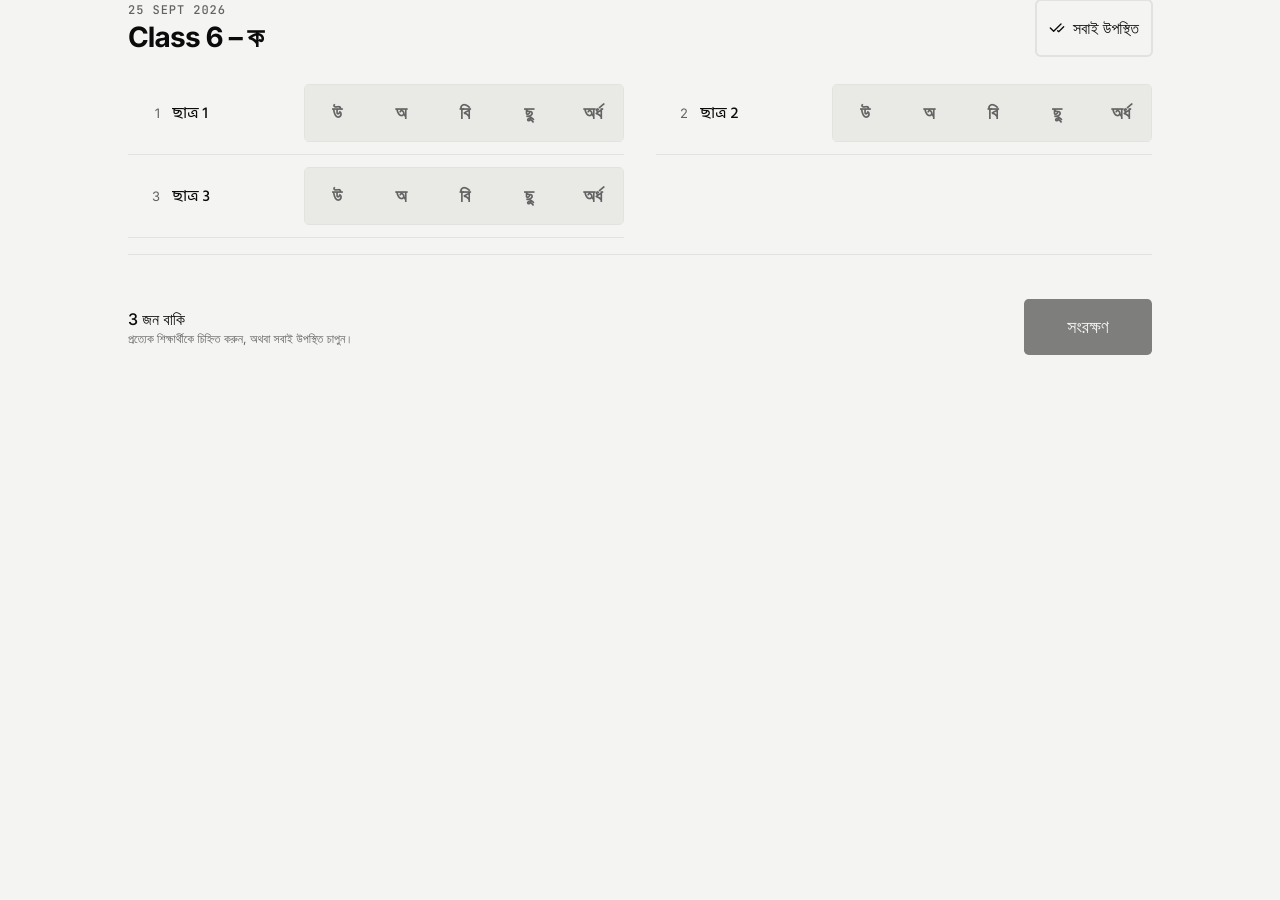
Test case: RollCall — basic mode (F-ID-10 Part 3) › confirms the plain sentence in Bangla with counts before saving
Click the button "সবাই উপস্থিত" at {"x": 1094, "y": 28}, box x1=1036 y1=0 x2=1152 y2=56
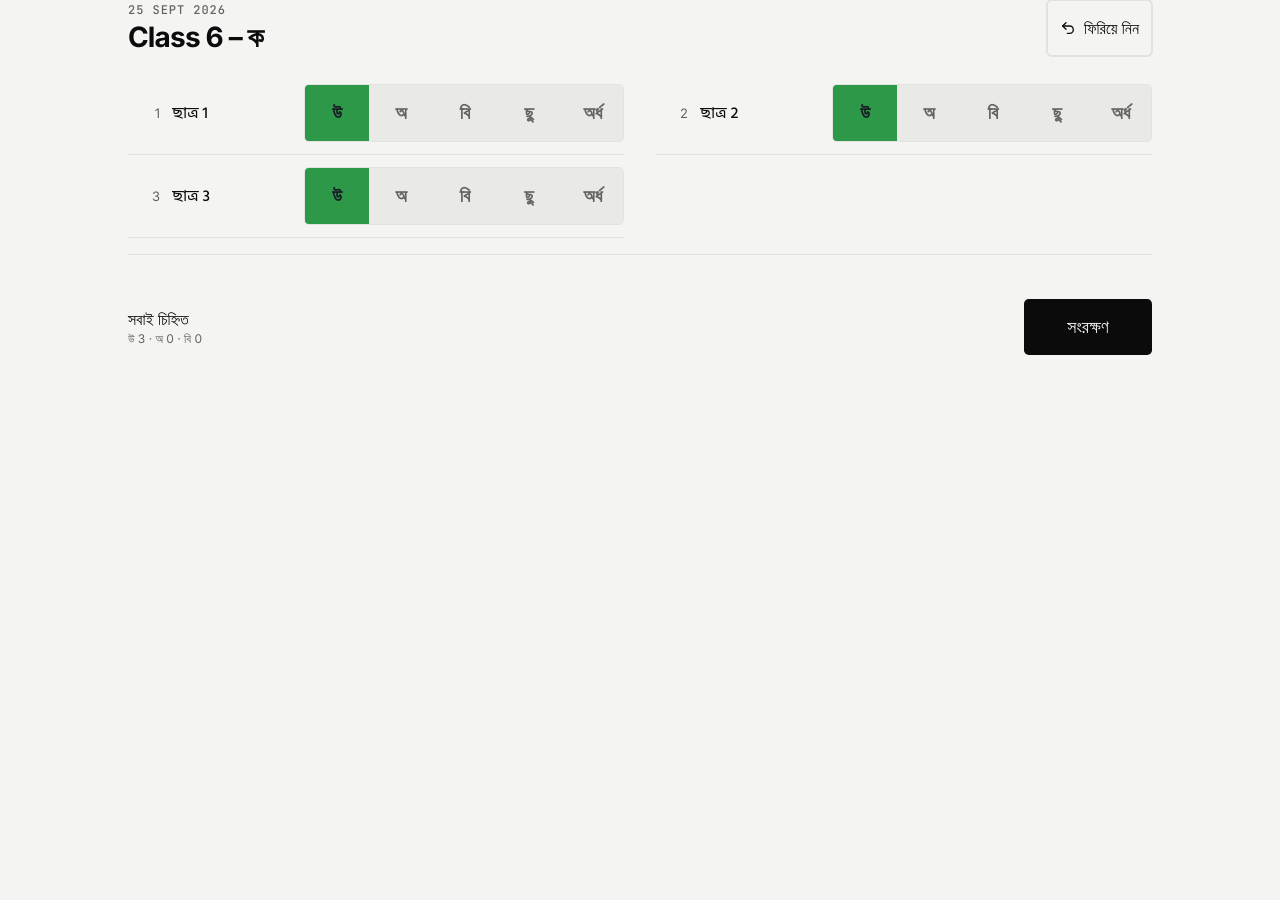
Click the button "সংরক্ষণ" at {"x": 1088, "y": 327}, box x1=1024 y1=299 x2=1152 y2=355
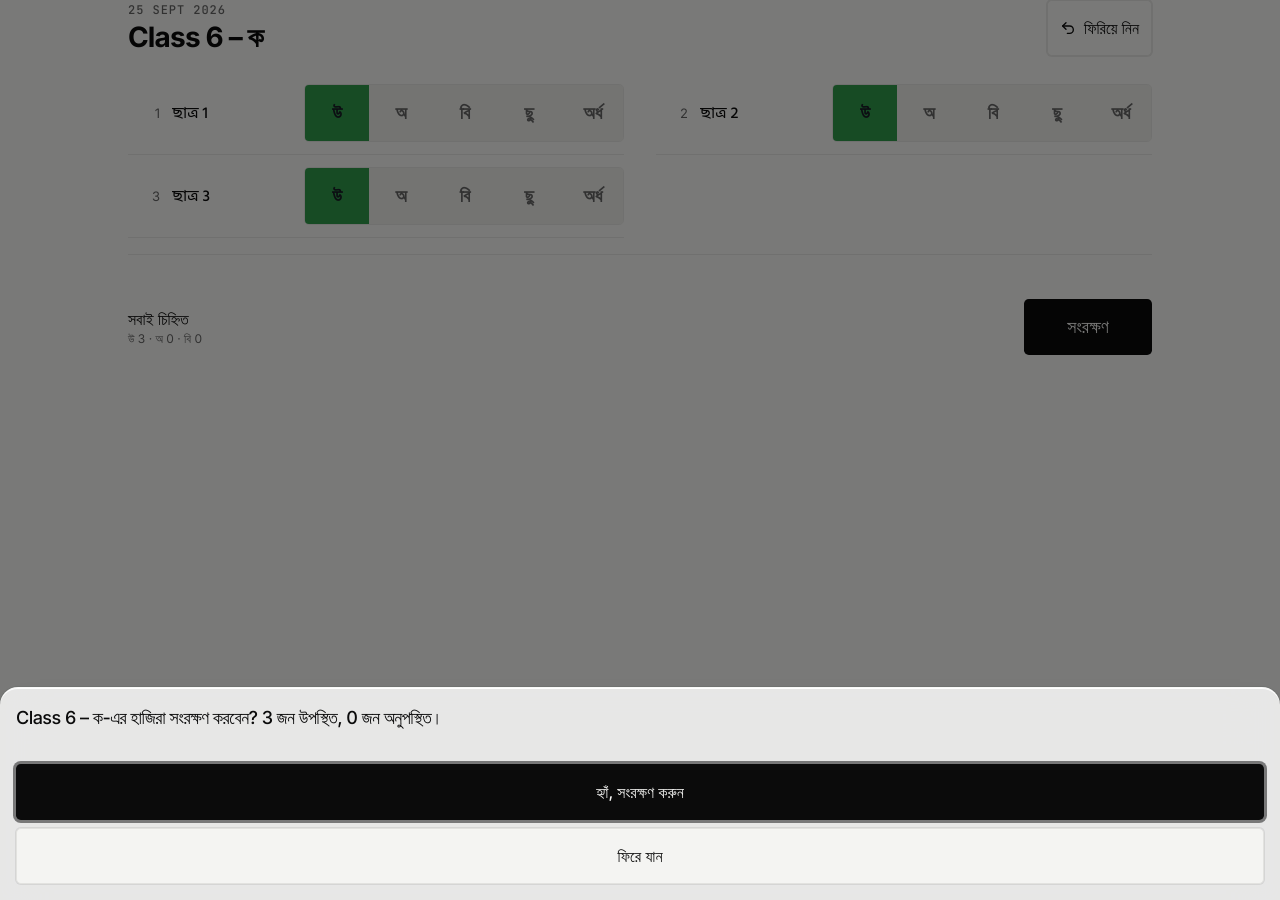
Check: the number of headings "Class 6 – ক-এর হাজিরা সংরক্ষণ করবেন? 3 জন উপস্থিত, 0 জন অনুপস্থিত।" is 1, box x1=16 y1=707 x2=443 y2=728
